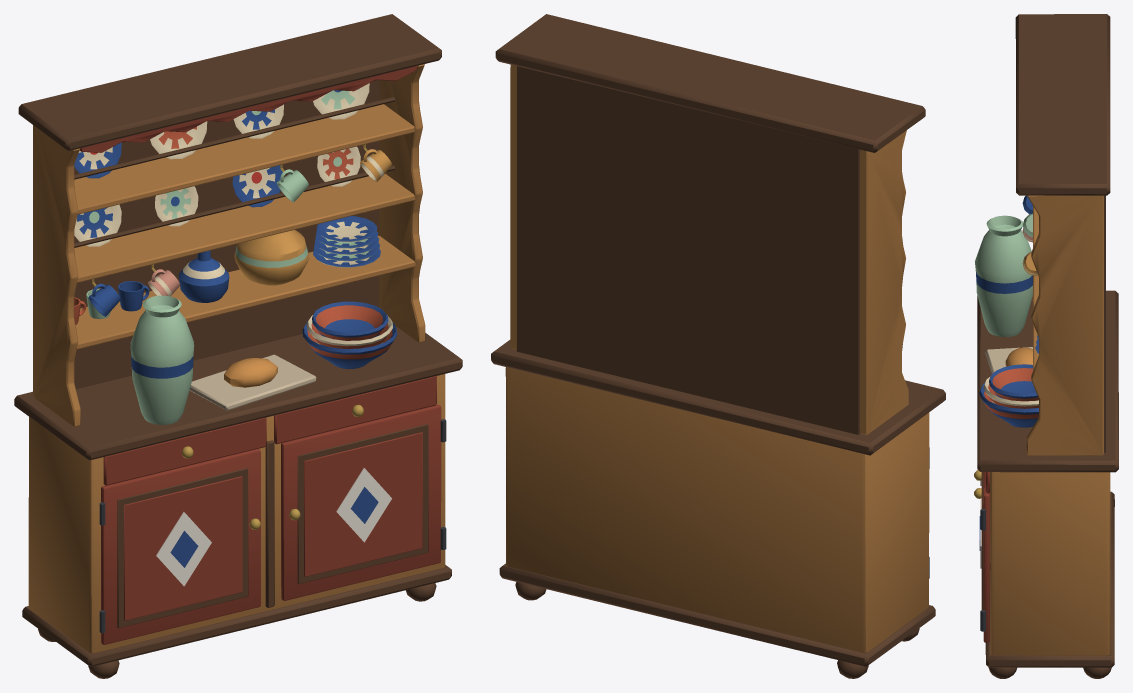
The model's file is deco_cupboard_dishes.fbx.
3 views of the same model, side by side, from view 1: azimuth 30°, elevation 25°; view 2: azimuth 150°, elevation 25°; view 3: azimuth 270°, elevation 25° (orthographic). The views are drawn at different scales.
Parts seen in each view (by area): view 1: Cupboard_Dishes_Shelves, Cupboard_Dishes_Cabinet, Cupboard_Dishes_DoorR, Cupboard_Dishes_DoorL, Cupboard_Dishes_Cups, Cupboard_Dishes_Plates; view 2: Cupboard_Dishes_Shelves, Cupboard_Dishes_Cabinet; view 3: Cupboard_Dishes_Shelves, Cupboard_Dishes_Cabinet, Cupboard_Dishes_Cups, Cupboard_Dishes_DoorR.
Boxes of the visible parts, x1=… form: Cupboard_Dishes_Shelves: x1=18, y1=14, x2=441, y2=426; Cupboard_Dishes_Cabinet: x1=14, y1=326, x2=462, y2=678; Cupboard_Dishes_DoorR: x1=281, y1=404, x2=446, y2=600; Cupboard_Dishes_DoorL: x1=99, y1=448, x2=260, y2=644; Cupboard_Dishes_Cups: x1=74, y1=149, x2=397, y2=424; Cupboard_Dishes_Plates: x1=74, y1=83, x2=380, y2=267; Cupboard_Dishes_Shelves: x1=495, y1=14, x2=925, y2=434; Cupboard_Dishes_Cabinet: x1=491, y1=340, x2=945, y2=678; Cupboard_Dishes_Shelves: x1=1015, y1=14, x2=1110, y2=455; Cupboard_Dishes_Cabinet: x1=977, y1=290, x2=1118, y2=678; Cupboard_Dishes_Cups: x1=975, y1=195, x2=1038, y2=427; Cupboard_Dishes_DoorR: x1=974, y1=472, x2=989, y2=642.
Size of the model in its own units: 190 by 260 by 67.49.
